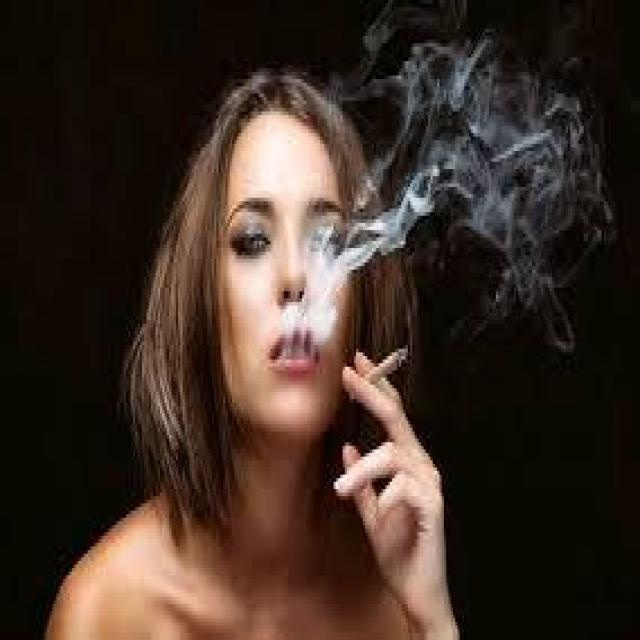cigarette: (336, 334, 426, 421)
